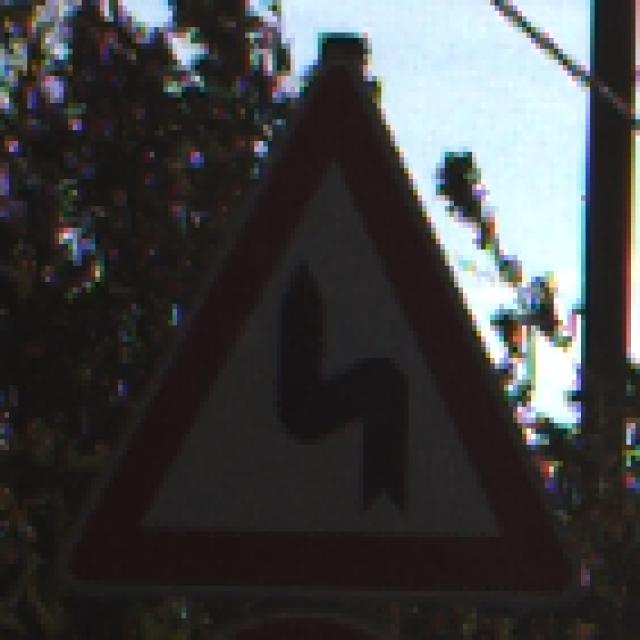left reverse bend: (51, 53, 584, 609)
